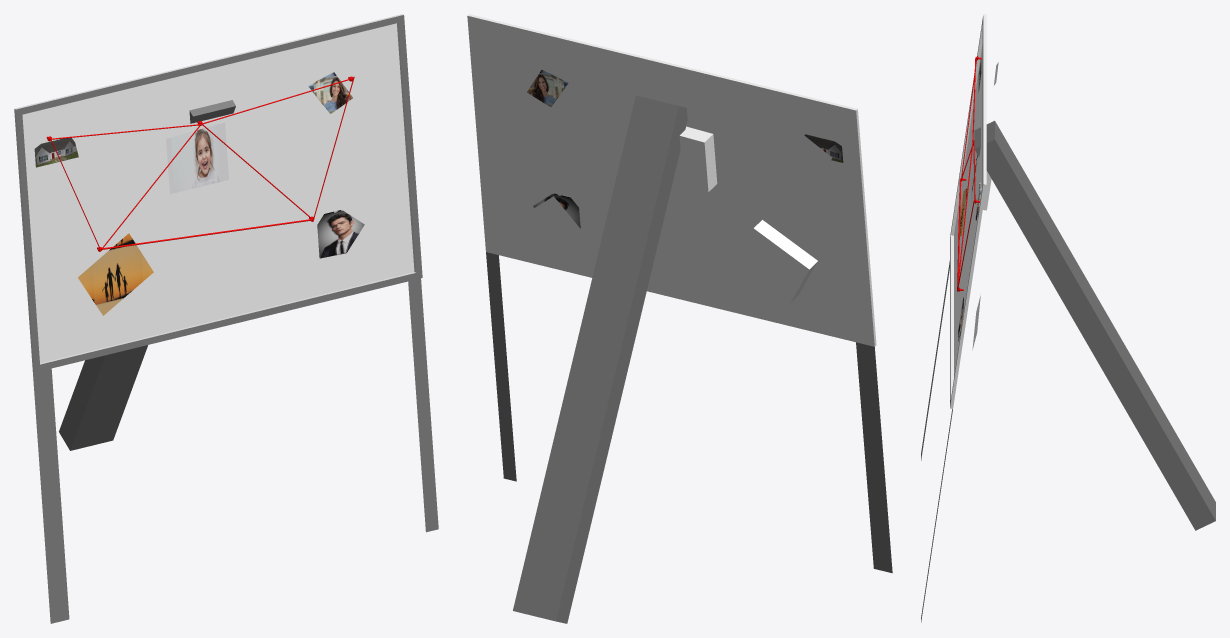
Rendered from gtablo.dae.
3 renders of one model, left to right at view 1: azimuth 30°, elevation 25°; view 2: azimuth 150°, elevation 25°; view 3: azimuth 270°, elevation 25°, orthographic. The views are drawn at different scales.
Parts seen in each view (by area): view 1: Component_4 (×10), Component_3; view 2: Component_4 (×9), Component_3; view 3: Component_3, Component_4 (×3).
Part boxes in pixels (box(x1,y1,x2,y2)): Component_4 (×10): box(14, 14, 438, 623); Component_3: box(59, 100, 235, 450); Component_4 (×9): box(467, 14, 892, 573); Component_3: box(513, 95, 687, 623); Component_3: box(974, 120, 1215, 530); Component_4 (×3): box(950, 14, 986, 408).
Size of the model in its own units: 199 by 146 by 239.
Materials: 9 (5 with a texture image).
